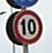limite 10: (13, 9, 41, 44)
